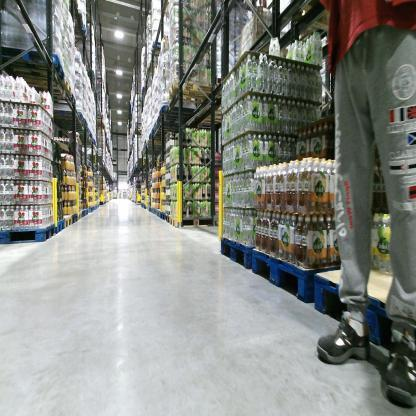pallets: (221, 227, 404, 347), (0, 219, 65, 246), (61, 202, 103, 235), (139, 202, 182, 231)
